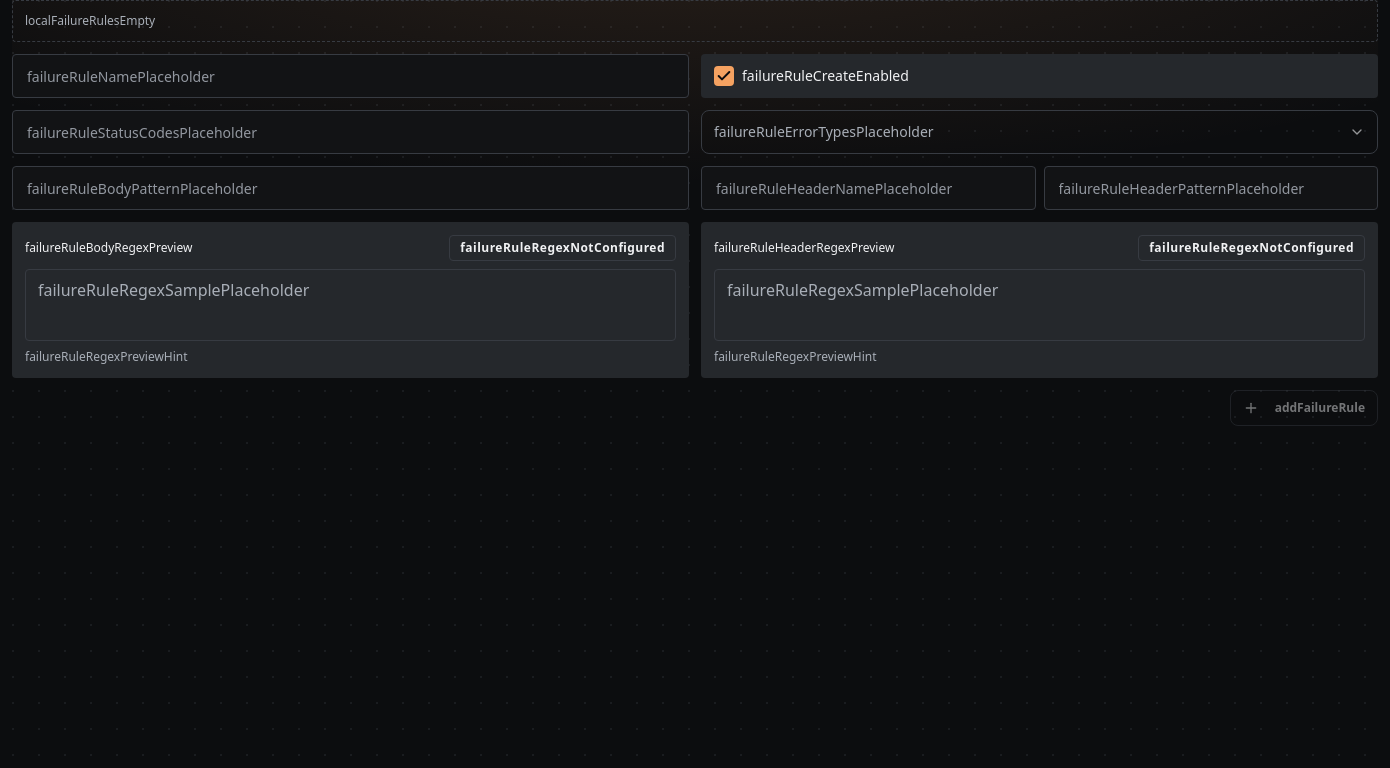
UpstreamFailureRulesEditor › allows a header-only draft only after both header fields are filled
In the field with placeholder "failureRuleNamePlaceholder": {"x": 350, "y": 76} [12,54,689,98], type "Header rule"
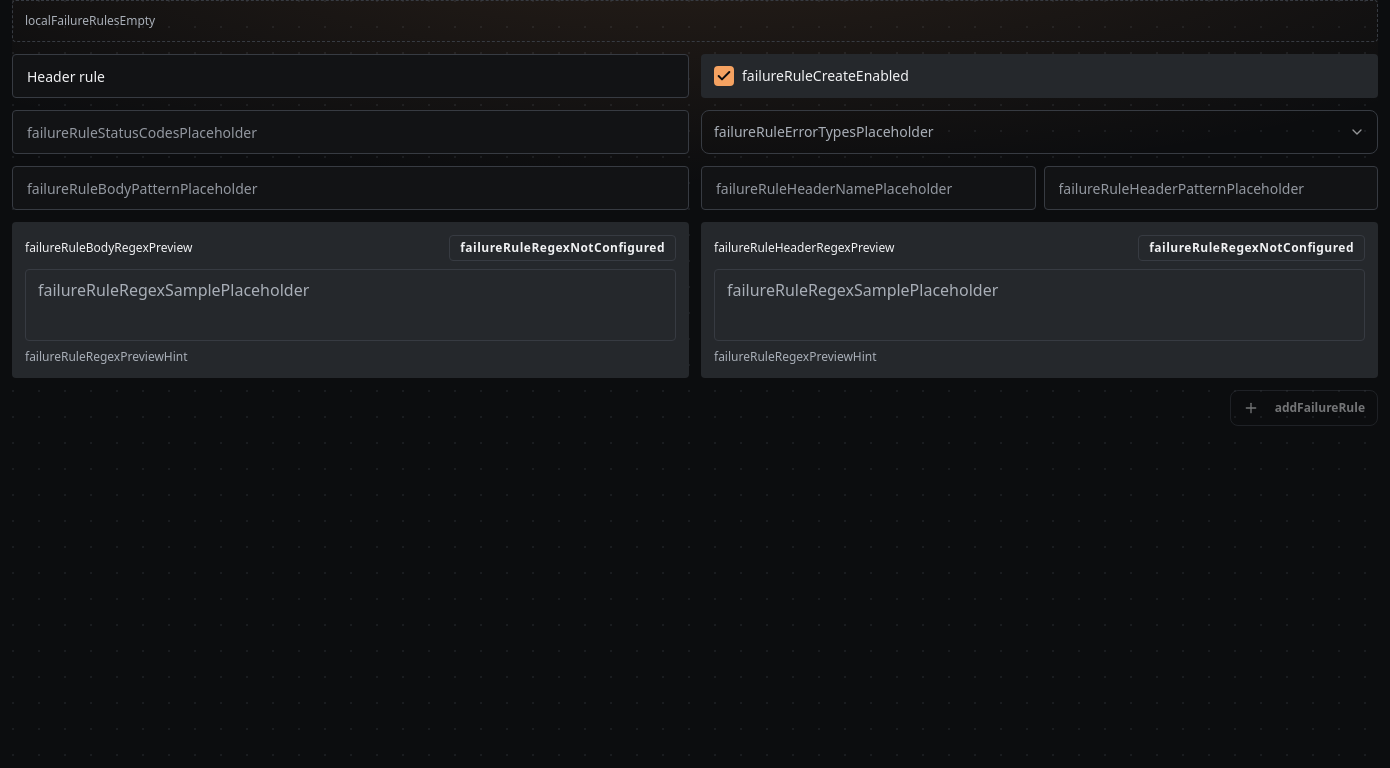
In the field with placeholder "failureRuleHeaderNamePlaceholder": {"x": 868, "y": 188} [701,166,1036,210], type "x-error"
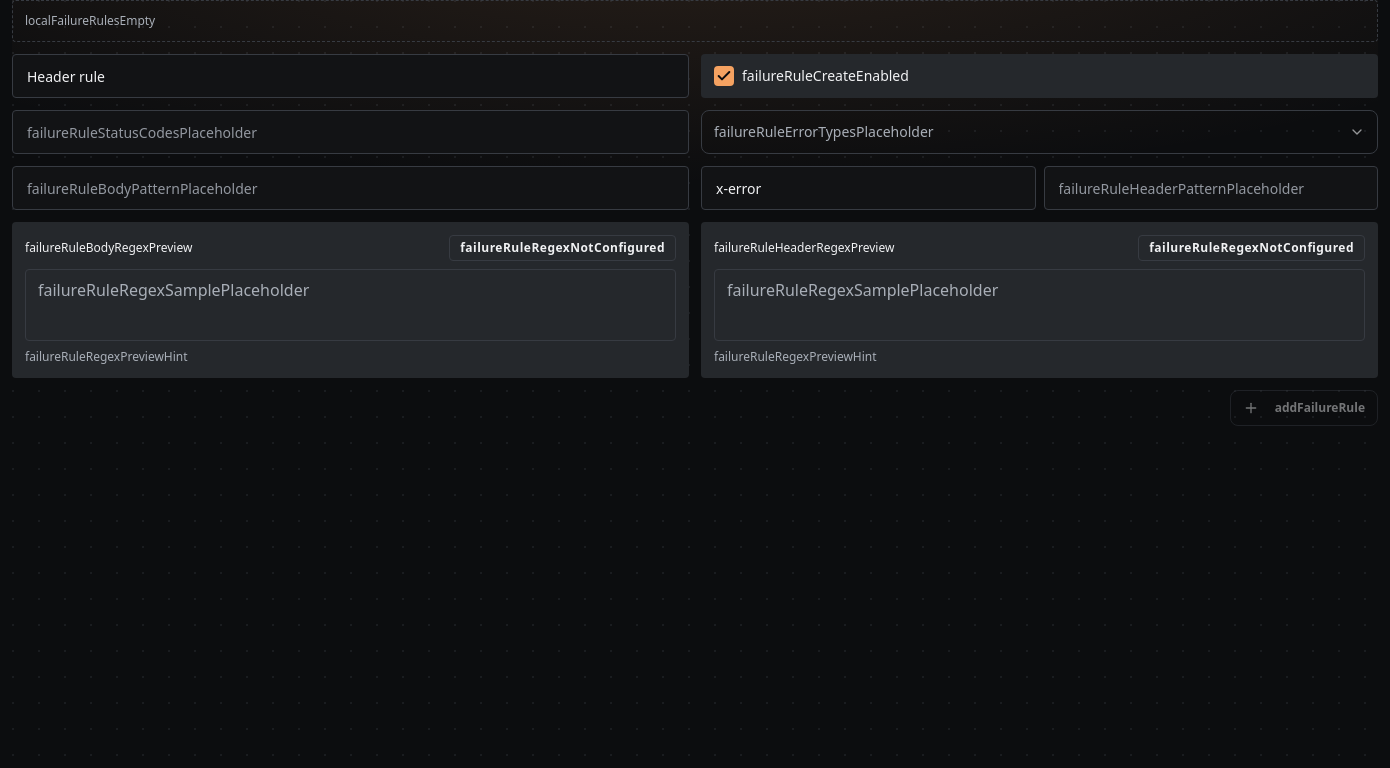
Expected: the button "addFailureRule" is disabled, [1230,390,1378,426]
In the field with placeholder "failureRuleHeaderPatternPlaceholder": {"x": 1211, "y": 188} [1044,166,1378,210], type "failed"
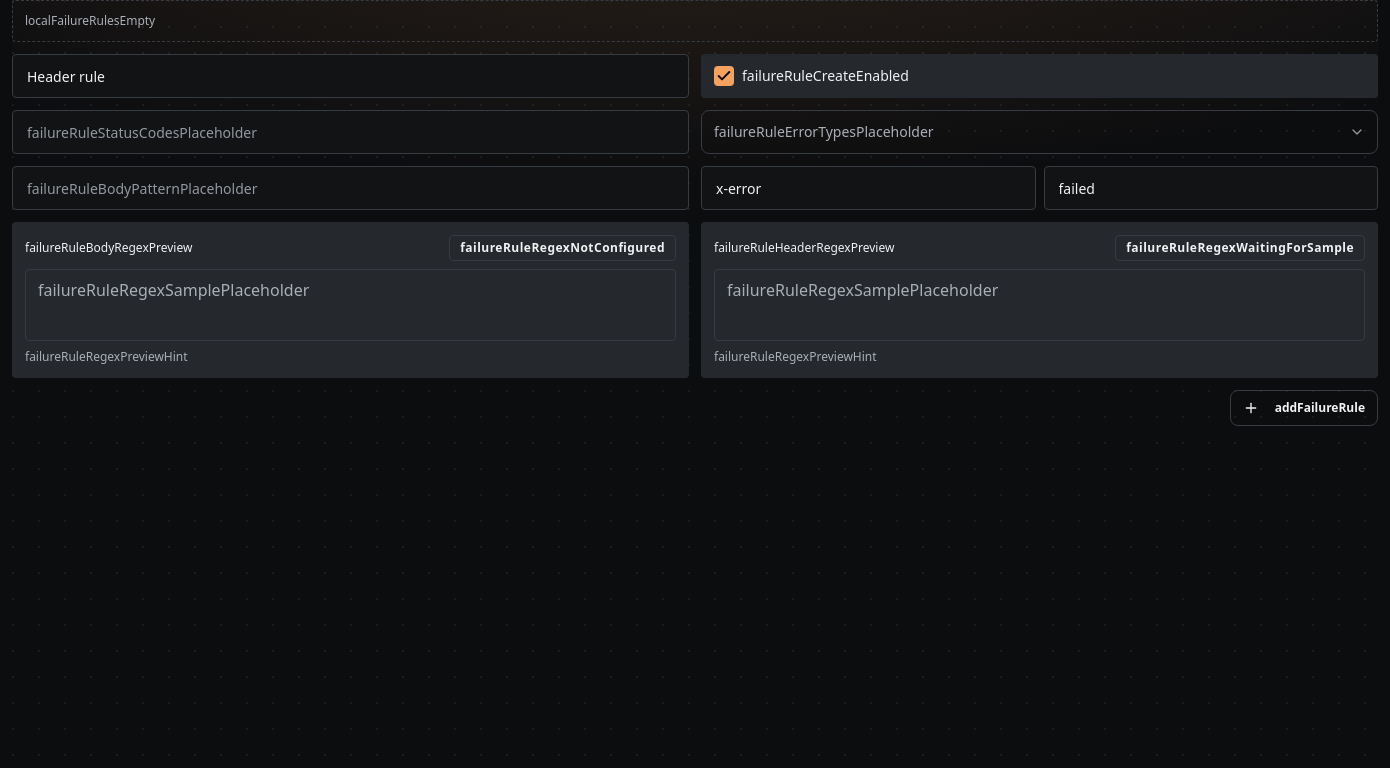
Result: the button "addFailureRule" is enabled at [1230,390,1378,426]
